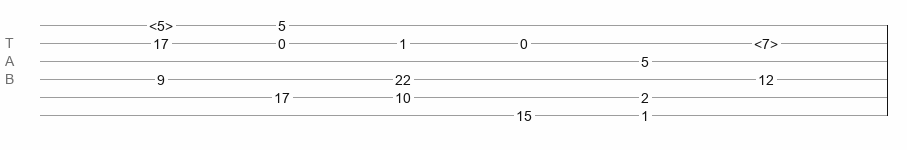0: (278, 36, 286, 46), (520, 36, 528, 46)
1: (399, 36, 407, 46), (641, 108, 649, 118)
10: (395, 90, 411, 100)
12: (758, 72, 774, 82)
15: (516, 108, 532, 118)
17: (153, 36, 169, 46), (274, 90, 290, 100)
2: (641, 90, 649, 100)
22: (395, 72, 411, 82)
5: (278, 18, 286, 28), (641, 54, 649, 64)
9: (157, 72, 165, 82)
harmonic: (149, 18, 173, 28), (754, 36, 778, 46)
